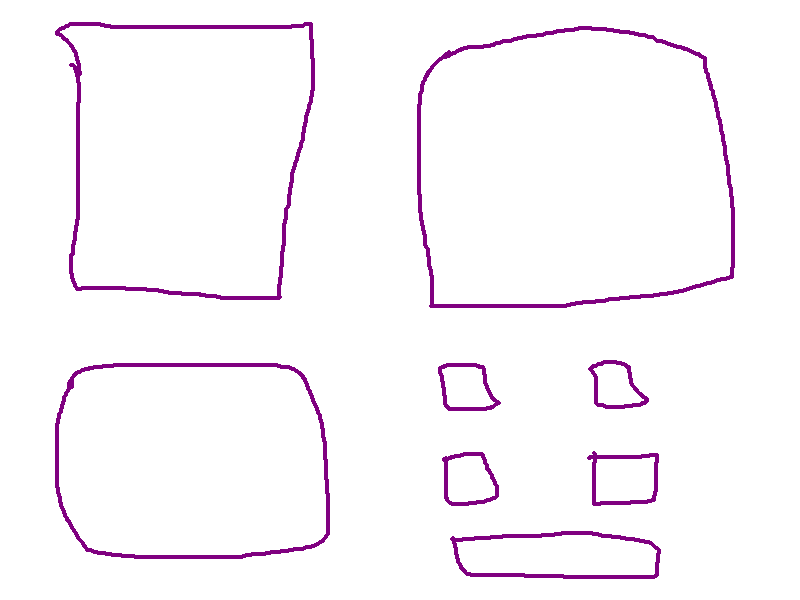rect: (406, 21, 743, 317), (51, 14, 314, 307), (51, 357, 337, 563), (449, 529, 664, 585), (586, 445, 664, 513), (581, 356, 653, 416), (430, 358, 504, 416), (437, 447, 502, 508)
